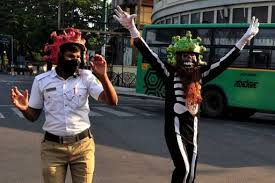mask: (51, 39, 86, 77), (174, 47, 204, 81)
